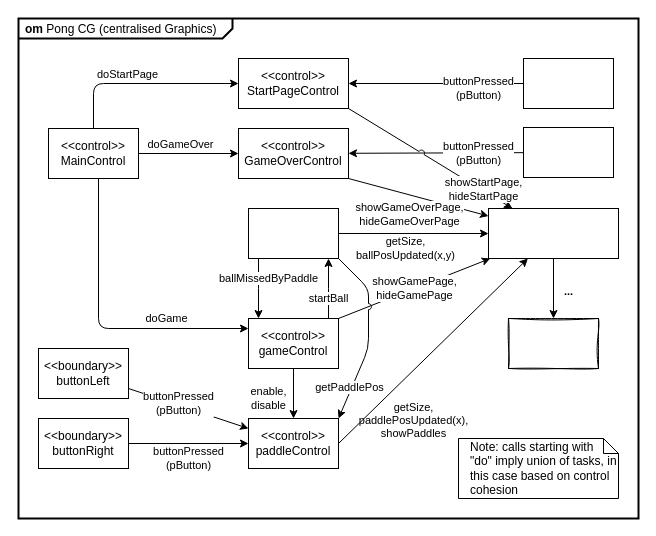
This 656x536 diagram has some shape labels left out. The centre of each missing label's shape, as x and y in pixels:
"<<boundary>> buttonGoStart" belongs at point (568, 152).
"<<boundary>> buttonSpStart" belongs at point (568, 83).
"<<boundary>> DisplayAdapter" belongs at point (553, 343).
"<<control>> ballControl" belongs at point (293, 233).
"<<control>> displayControl" belongs at point (553, 233).
